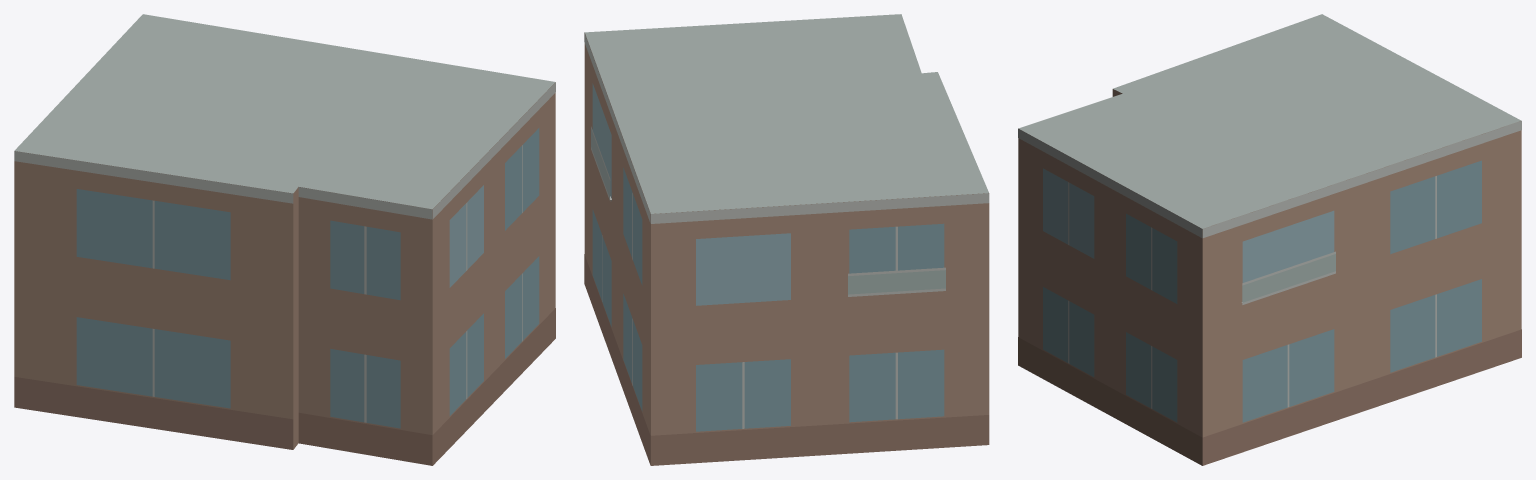
Rendered from survey-upis-32731318.glb.
The picture shows the model from 3 angles, left to right: view 1: azimuth 30°, elevation 25°; view 2: azimuth 150°, elevation 25°; view 3: azimuth 270°, elevation 25°; orthographic projection. The views are drawn at different scales.
Parts seen in each view (by area): view 1: survey-upis-32731318.tmp; view 2: survey-upis-32731318.tmp; view 3: survey-upis-32731318.tmp.
Part boxes in pixels (<box>): survey-upis-32731318.tmp: <box>14,14,555,465</box>; survey-upis-32731318.tmp: <box>584,14,989,465</box>; survey-upis-32731318.tmp: <box>1018,14,1521,465</box>.
Bounding box in the file's own units: 11.87 × 6.1 × 11.75.
